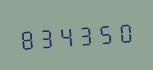eight: (17, 24, 35, 52)
five: (94, 18, 112, 47)
four: (56, 21, 74, 50)
three: (36, 22, 54, 51), (75, 20, 93, 48)
zero: (113, 17, 131, 46)
